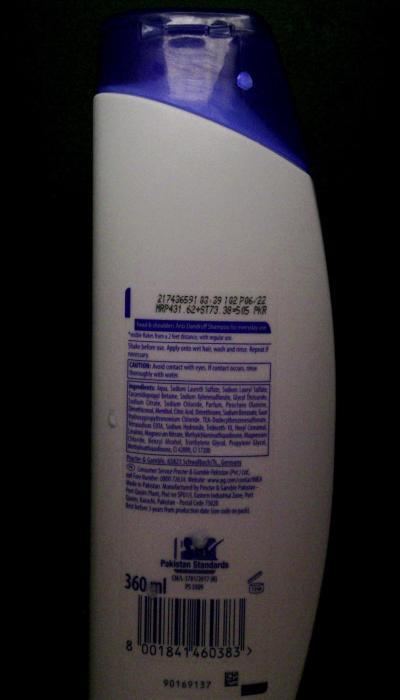pob_marg: (127, 14, 166, 48), (229, 64, 262, 100), (187, 528, 213, 554), (101, 407, 125, 435), (140, 576, 164, 600)
